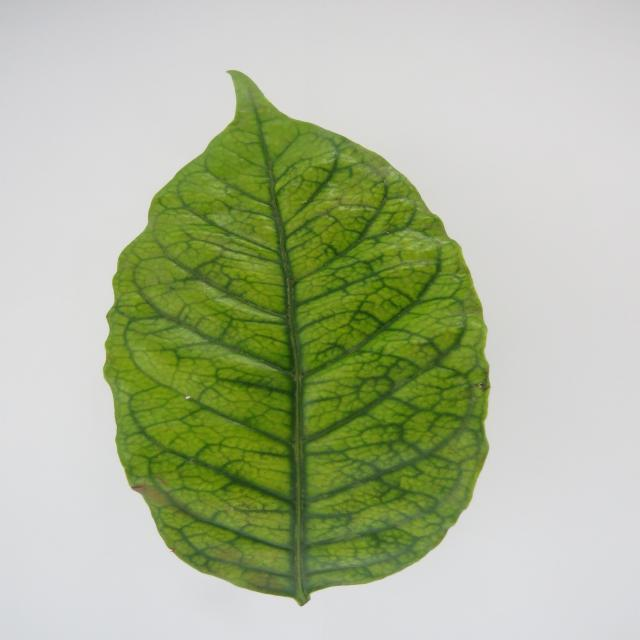DeficienciaNutricional-Magnesio: (105, 71, 488, 604)
